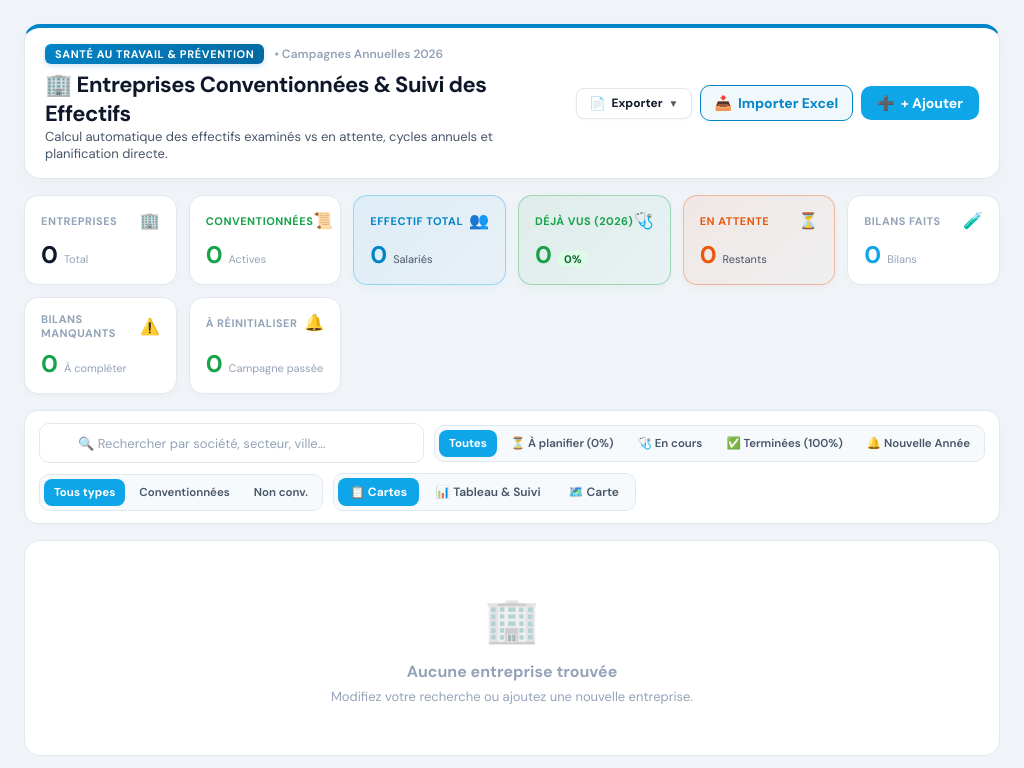
Scenario: Entreprises page — liste › opens create modal on add button click
Click the text "+ Ajouter": (932, 103) [901,94,963,112]
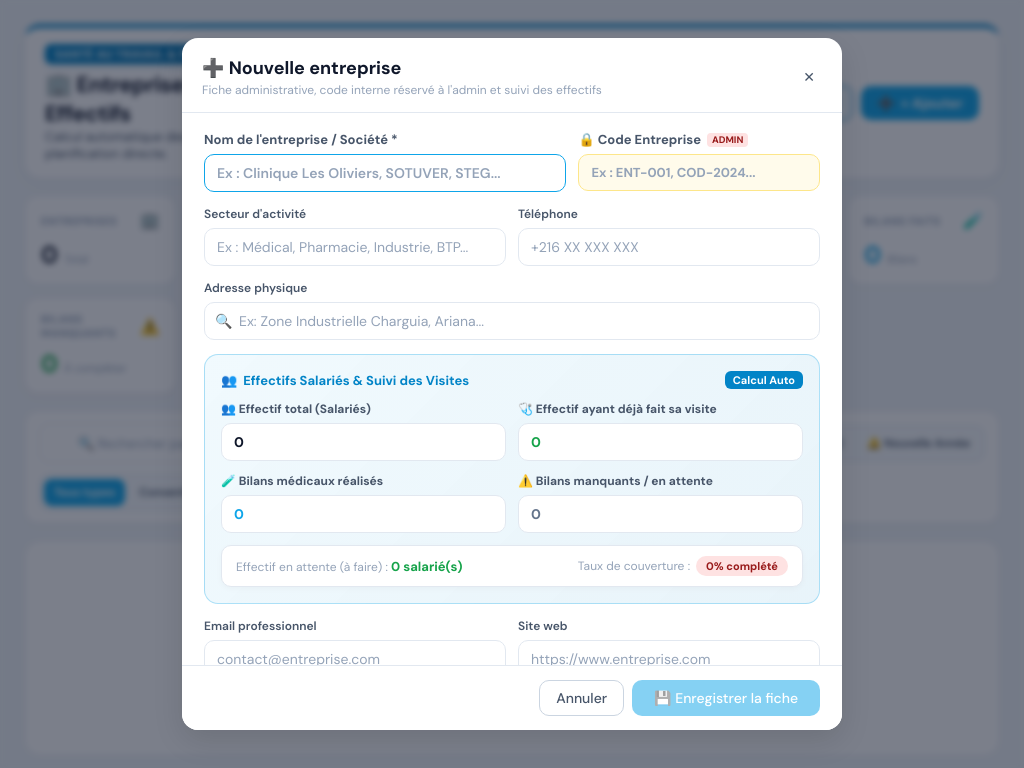
Expected: the heading "➕ Nouvelle entreprise" is shown, [202,56,401,80]
